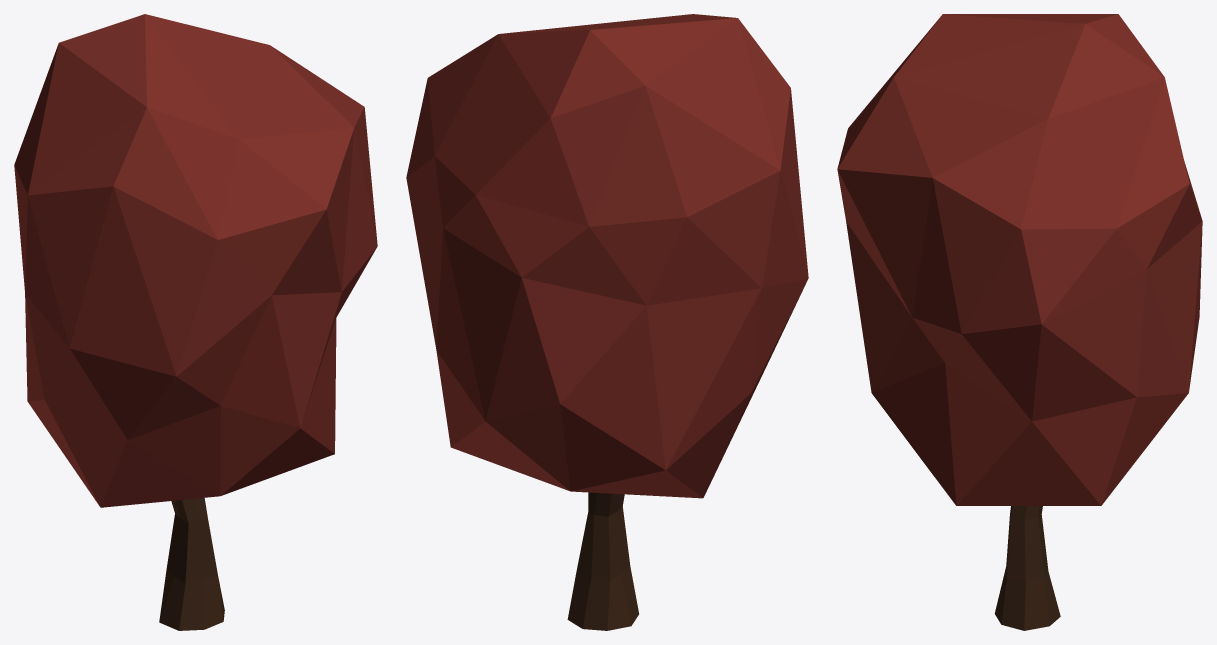
The model's file is Tree_43_Red.fbx.
3 renders of one model, left to right at view 1: azimuth 30°, elevation 25°; view 2: azimuth 150°, elevation 25°; view 3: azimuth 270°, elevation 25°, orthographic. The views are drawn at different scales.
Parts seen in each view (by area): view 1: Tree_43_Red_Part_1, Tree_43_Red_Part_2; view 2: Tree_43_Red_Part_1, Tree_43_Red_Part_2; view 3: Tree_43_Red_Part_1, Tree_43_Red_Part_2.
Part boxes in pixels (bbox=[...]): Tree_43_Red_Part_1: bbox=[14, 14, 377, 507]; Tree_43_Red_Part_2: bbox=[159, 498, 224, 630]; Tree_43_Red_Part_1: bbox=[406, 14, 808, 498]; Tree_43_Red_Part_2: bbox=[567, 492, 638, 630]; Tree_43_Red_Part_1: bbox=[837, 14, 1202, 505]; Tree_43_Red_Part_2: bbox=[994, 506, 1060, 630].
Bounding box in the file's own units: 500 × 807 × 458.
